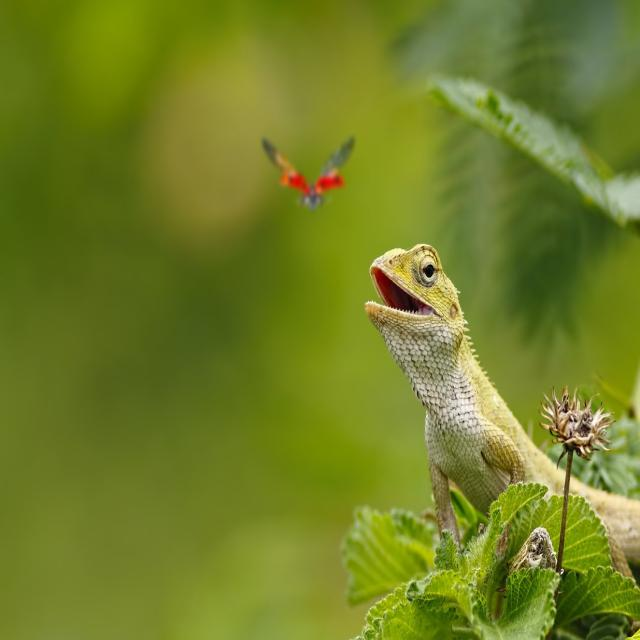Lizard: (364, 239, 640, 584)
